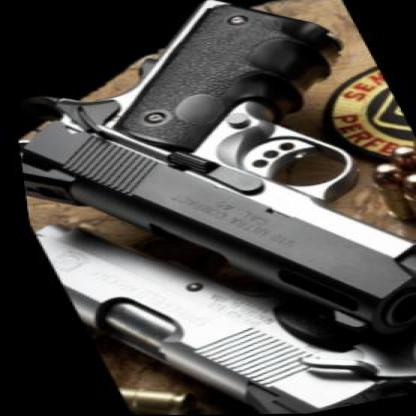pistol: (0, 0, 413, 387), (15, 147, 415, 415)
